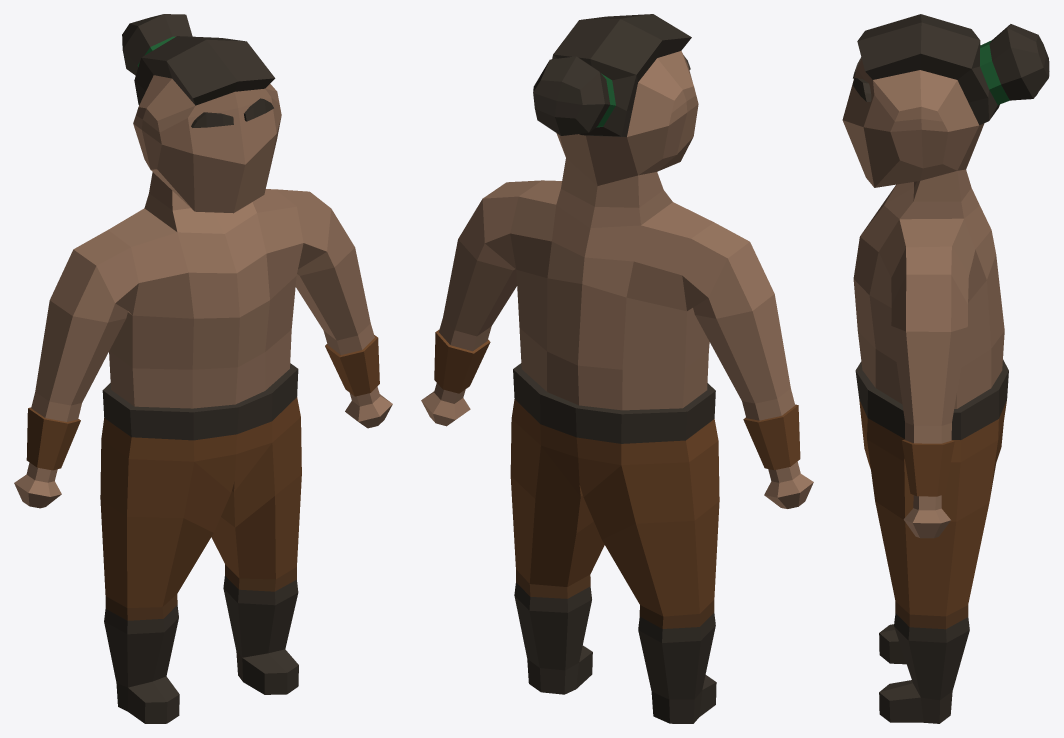
The model's file is NativeMan01.fbx.
3 renders of one model, left to right at view 1: azimuth 30°, elevation 25°; view 2: azimuth 150°, elevation 25°; view 3: azimuth 270°, elevation 25°, orthographic. The views are drawn at different scales.
Parts seen in each view (by area): view 1: NativeMan01; view 2: NativeMan01; view 3: NativeMan01.
Boxes of the visible parts, left/top/right/bottom form: NativeMan01: left=14, top=14, right=392, bottom=723; NativeMan01: left=421, top=14, right=813, bottom=723; NativeMan01: left=842, top=14, right=1049, bottom=723.
Size of the model in its own units: 46.97 by 80.33 by 22.76.
